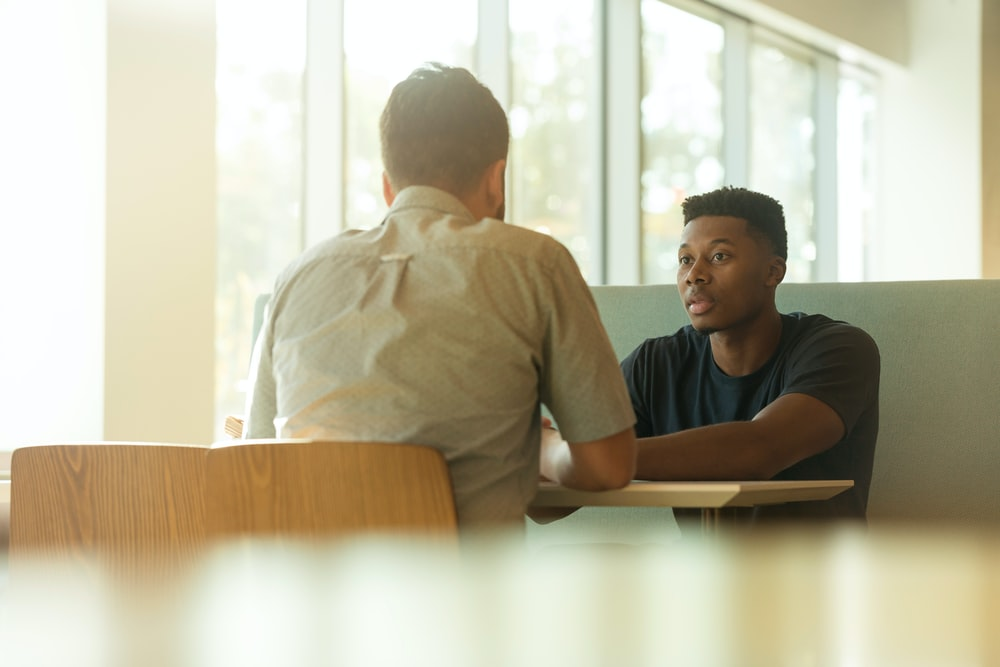face: (373, 45, 531, 232), (664, 179, 789, 335)
